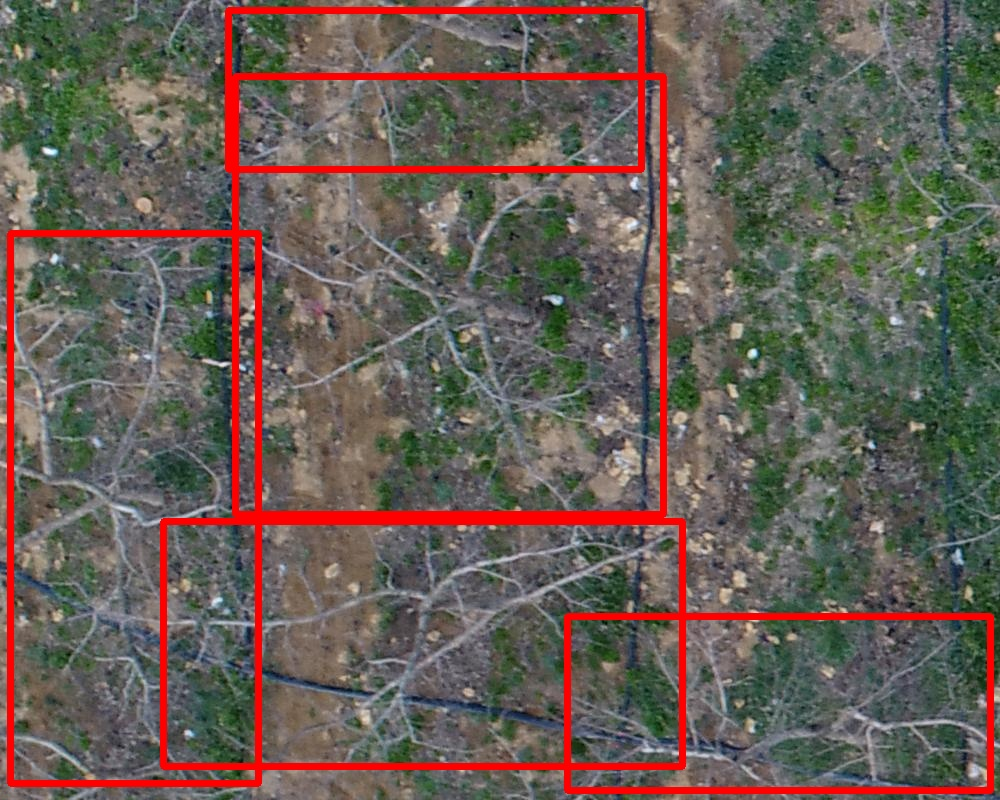apple: (235, 76, 663, 514), (10, 233, 258, 783), (163, 521, 682, 766), (567, 616, 990, 790), (228, 10, 641, 169)
